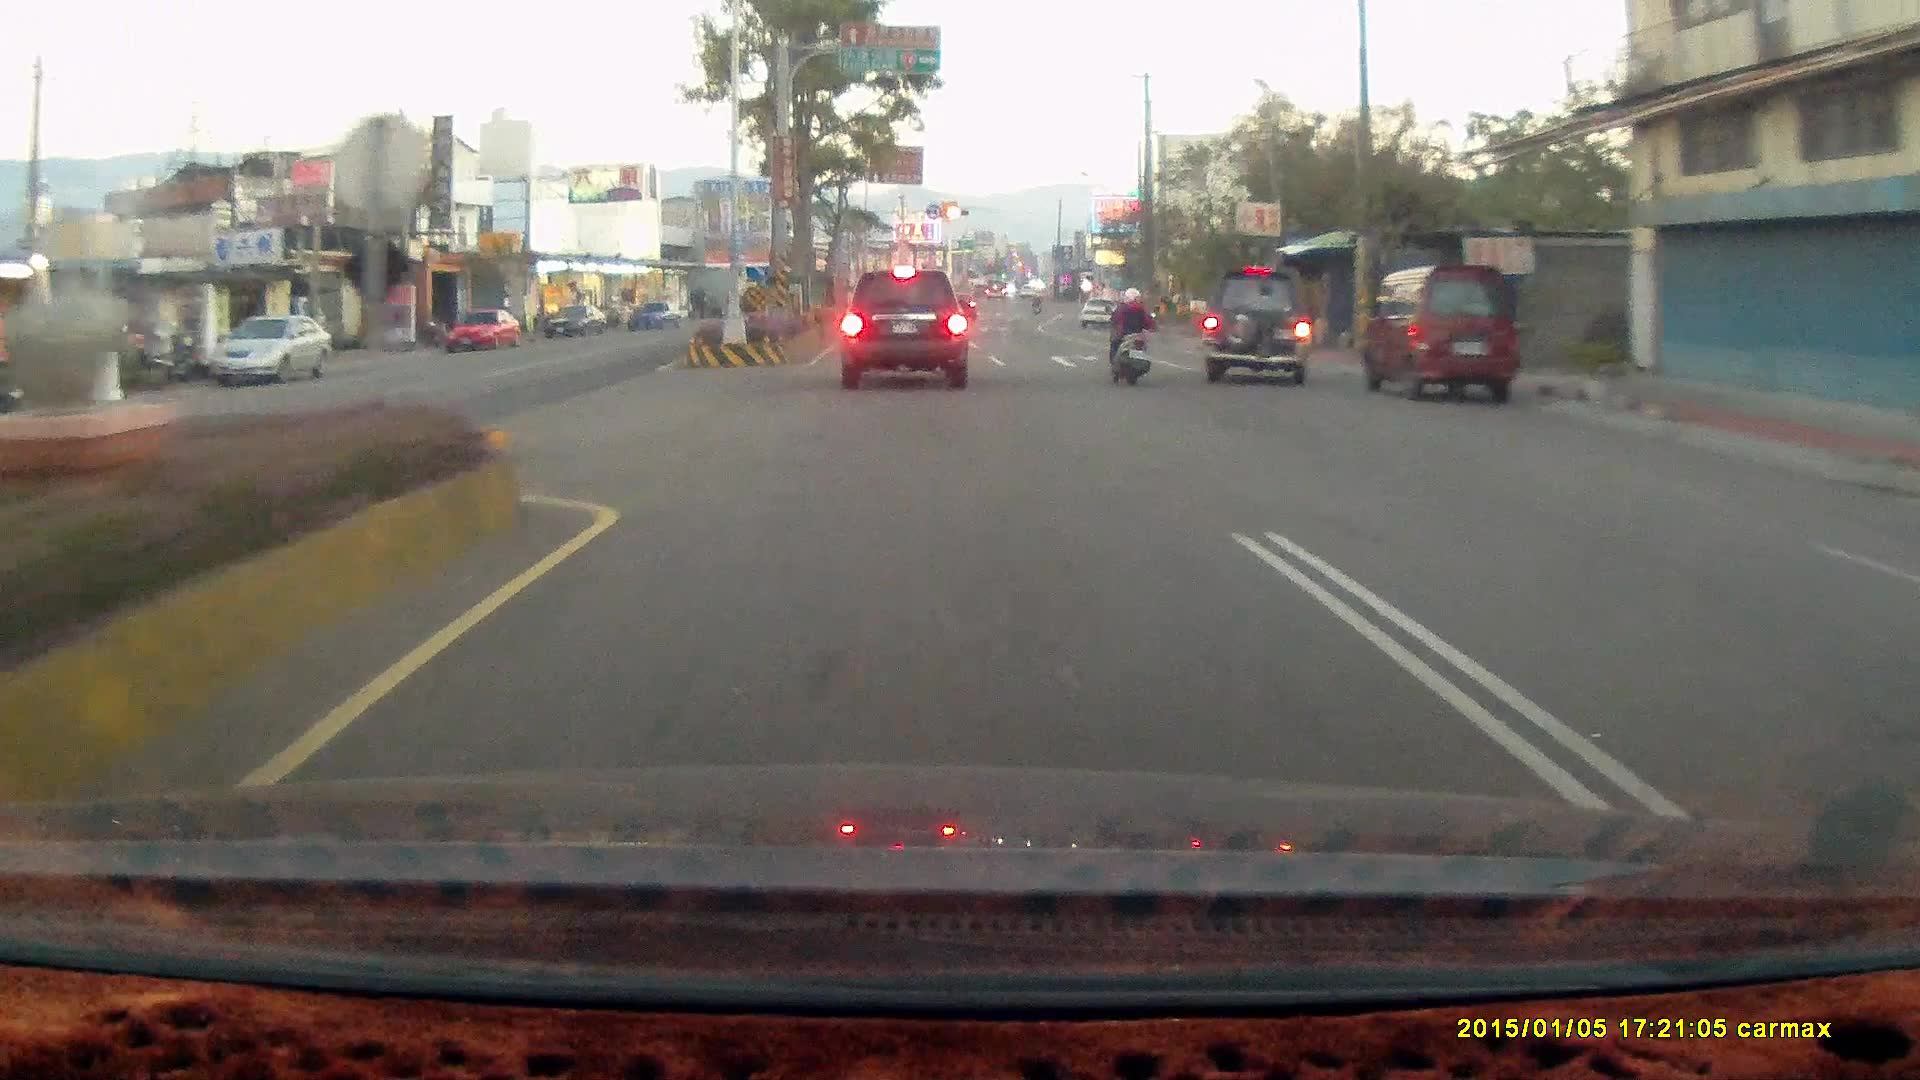rider: (1105, 285, 1152, 389)
vehicle: (1355, 262, 1521, 405), (1366, 261, 1524, 406), (839, 266, 969, 390), (1200, 265, 1324, 383), (1200, 265, 1315, 382), (210, 315, 334, 391), (210, 314, 334, 385), (1896, 493, 1920, 836), (1883, 528, 1920, 690), (442, 307, 525, 352), (442, 306, 522, 350), (1078, 296, 1120, 327)
